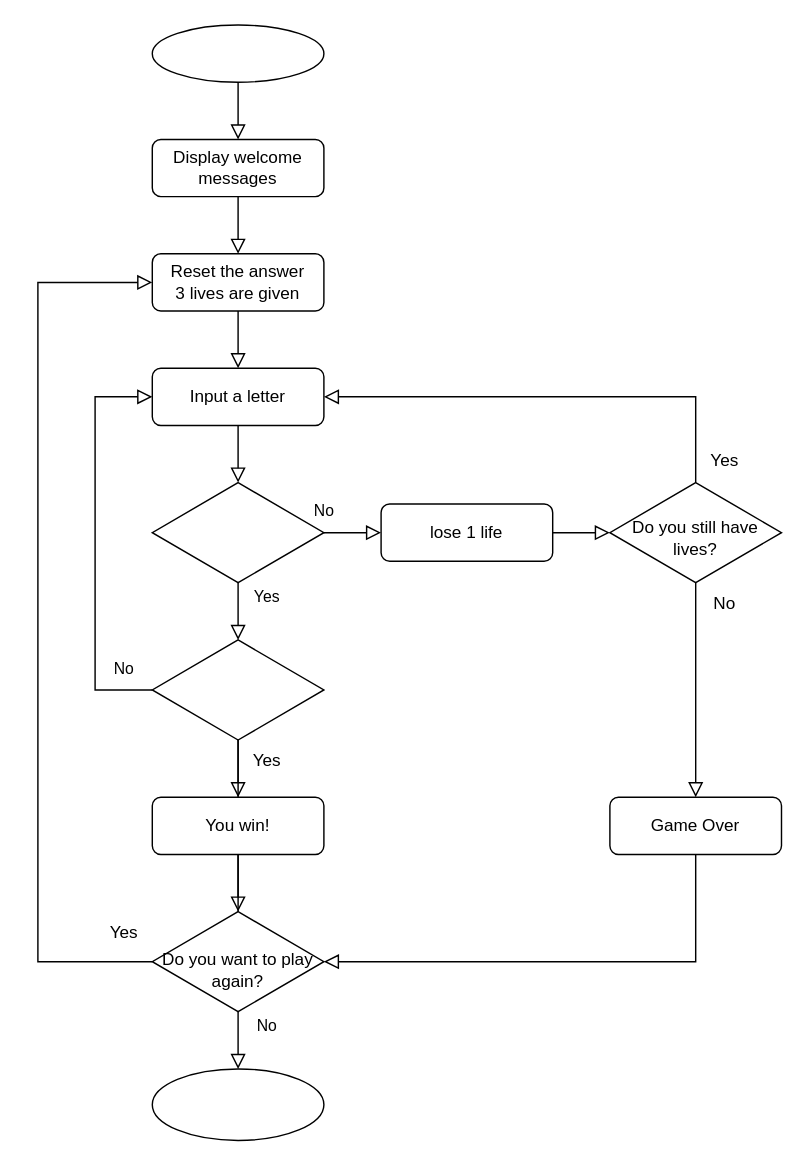
This 807x1165 diagram has some shape labels left out. The centre of each missing label's shape, as x and y in pixels:
"Game End" goes at point (237, 1103).
"Game Start" goes at point (237, 53).
"Is the answer word compleated?" goes at point (237, 689).
"Is the letter in the answer word?" goes at point (237, 532).
